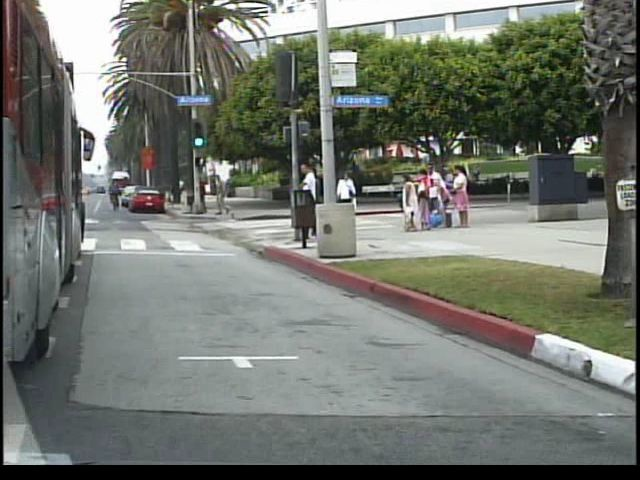person: (299, 158, 326, 243), (341, 167, 364, 233), (215, 170, 235, 218)
